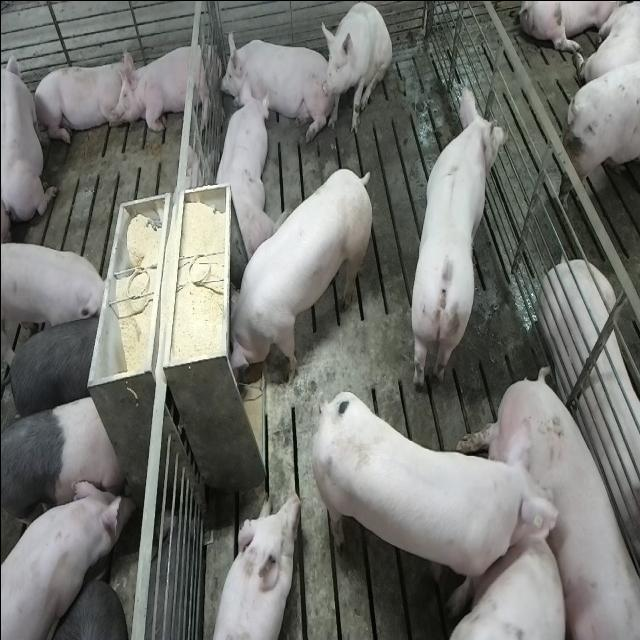Feeding: (218, 166, 368, 391)
Lateral_lying: (459, 367, 640, 640), (536, 256, 640, 605)
Sitting: (319, 2, 392, 138)
Standing: (310, 389, 562, 600), (406, 84, 507, 398), (2, 472, 136, 640), (1, 387, 124, 550), (428, 538, 565, 636), (1, 310, 106, 418), (3, 240, 111, 340)
Sternal_lying: (206, 490, 299, 640), (218, 27, 326, 136), (210, 84, 272, 262), (2, 42, 56, 234), (118, 36, 215, 134), (32, 52, 130, 146)
